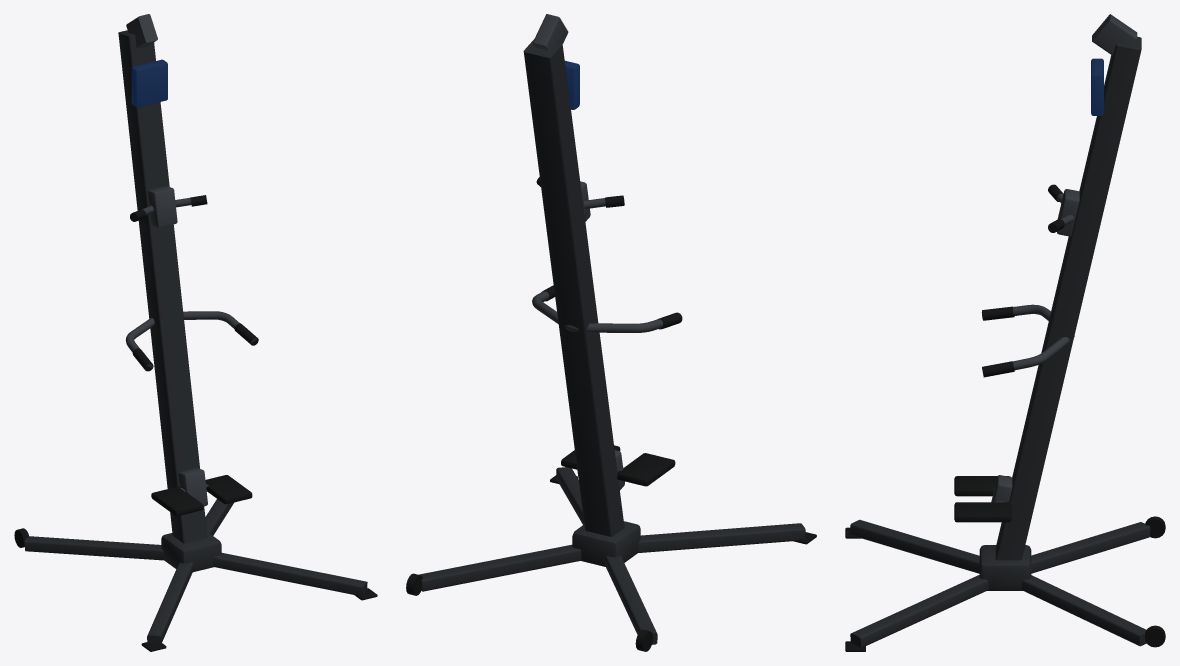
The model's file is vclimber.glb.
3 renders of one model, left to right at view 1: azimuth 30°, elevation 25°; view 2: azimuth 150°, elevation 25°; view 3: azimuth 270°, elevation 25°, orthographic. The views are drawn at different scales.
Parts seen in each view (by area): view 1: vclimber; view 2: vclimber; view 3: vclimber.
Boxes of the visible parts, left/top/right/bottom form: vclimber: left=14, top=14, right=377, bottom=651; vclimber: left=406, top=14, right=816, bottom=651; vclimber: left=845, top=14, right=1165, bottom=651.
Bounding box in the file's own units: 1.12 × 2.46 × 1.24.
